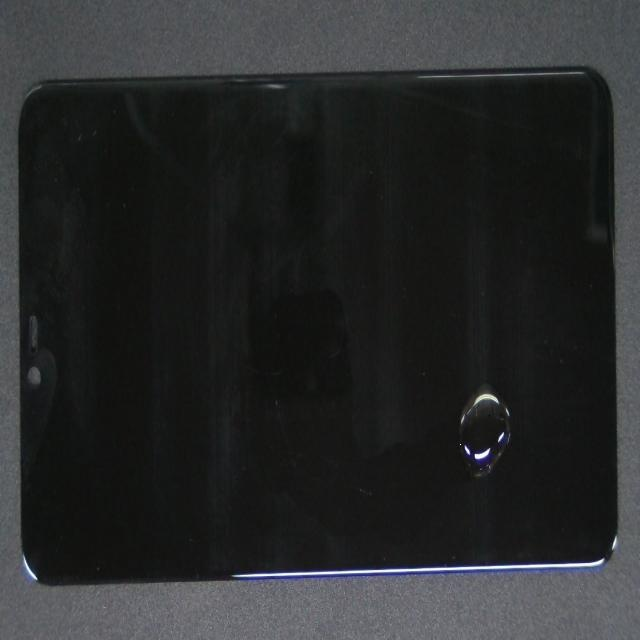oil: (262, 197, 640, 594)
